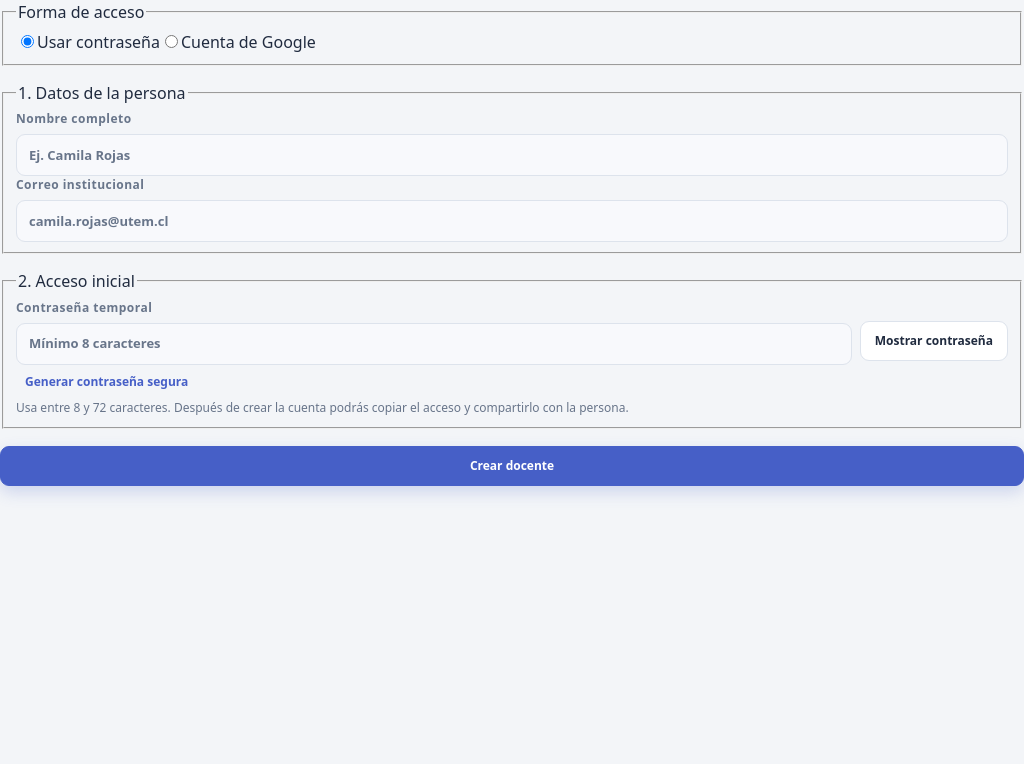
Scenario: crear docente › siempre ofrece mostrar/ocultar y conserva las credenciales solo después del éxito
Expected: the button "Mostrar contraseña" is enabled, [860,321,1008,361]
Type "Ana Pérez" into the field labelled "Nombre completo" at [512, 155], box [16,134,1008,176]
Type "ana@utem.cl" into the field labelled "Correo institucional" at [512, 221], box [16,200,1008,242]
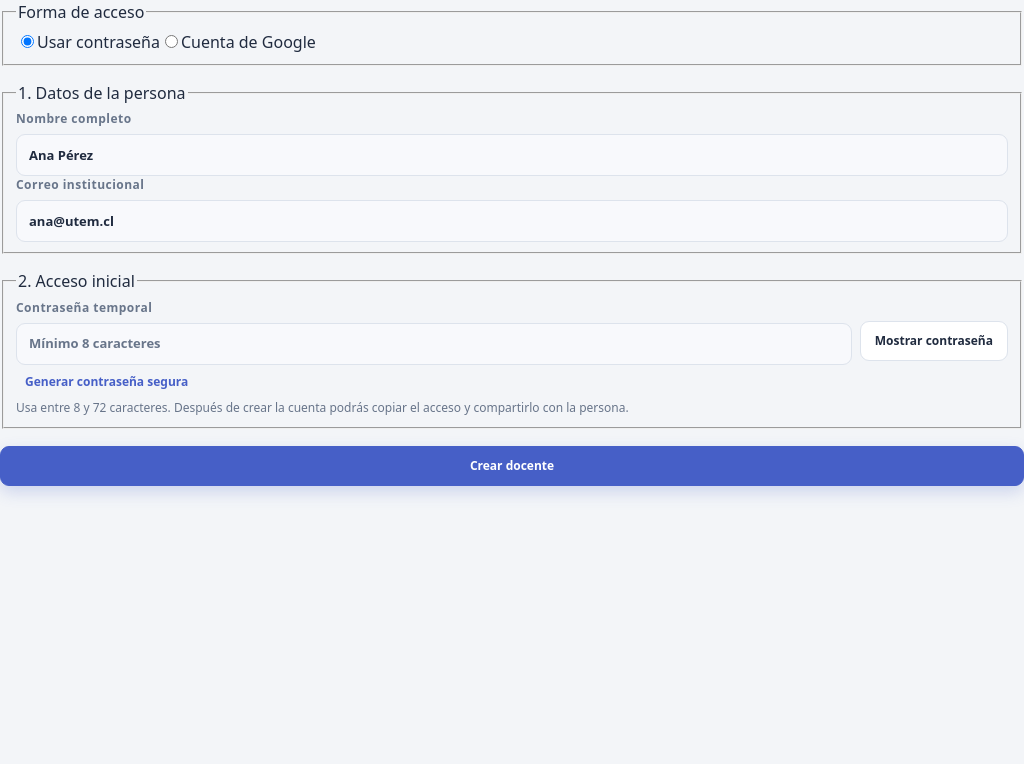
Type "temporal1234" into the password field labelled "Contraseña temporal" at [434, 344], box [16,323,852,365]
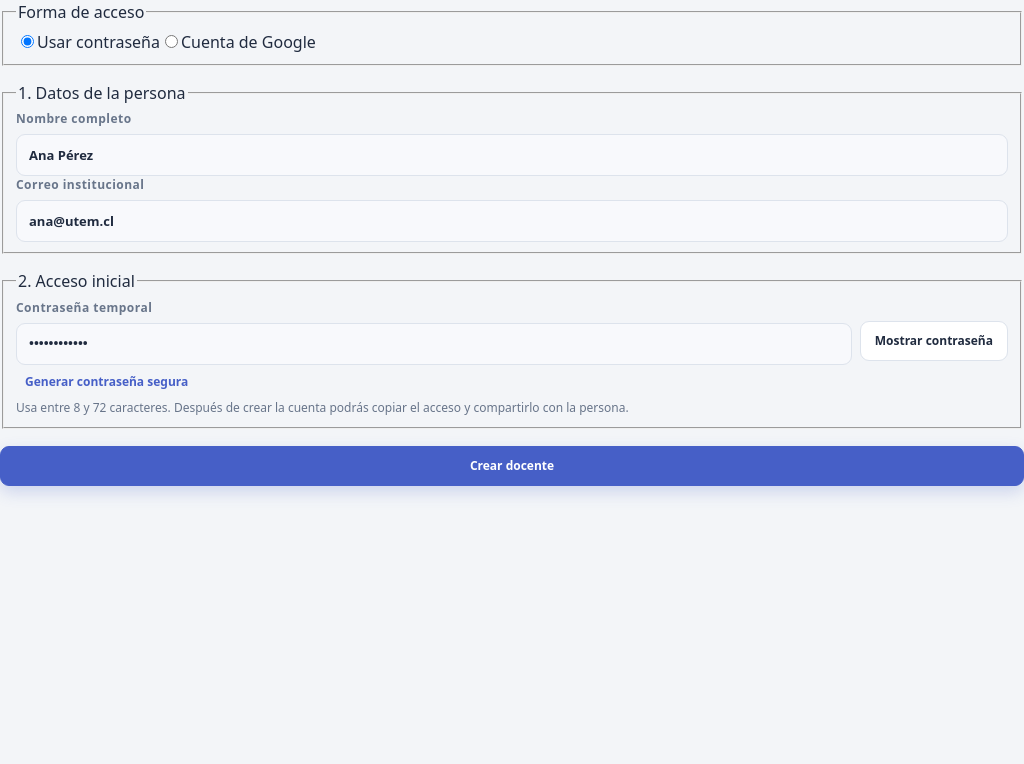
Click the button "Mostrar contraseña" at [934, 341], box [860,321,1008,361]
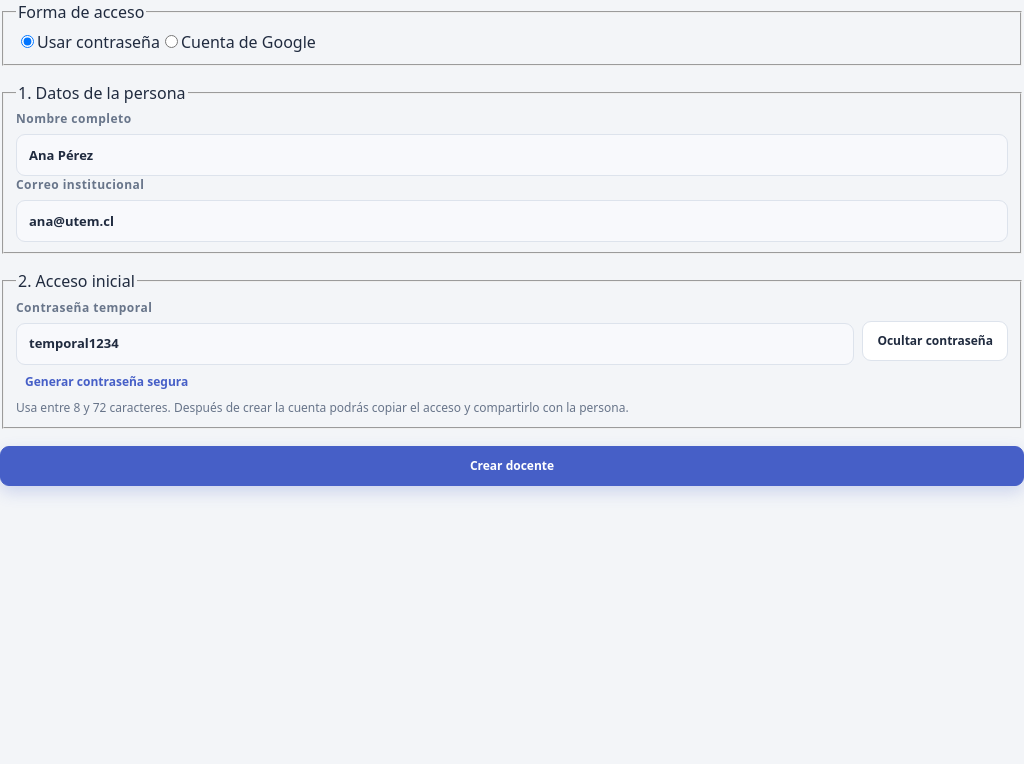
Expected: the field labelled "Contraseña temporal" shows its text, [16,323,854,365]
Click the button "Crear docente" at [512, 466], box [0,446,1023,486]
(page scrolled)
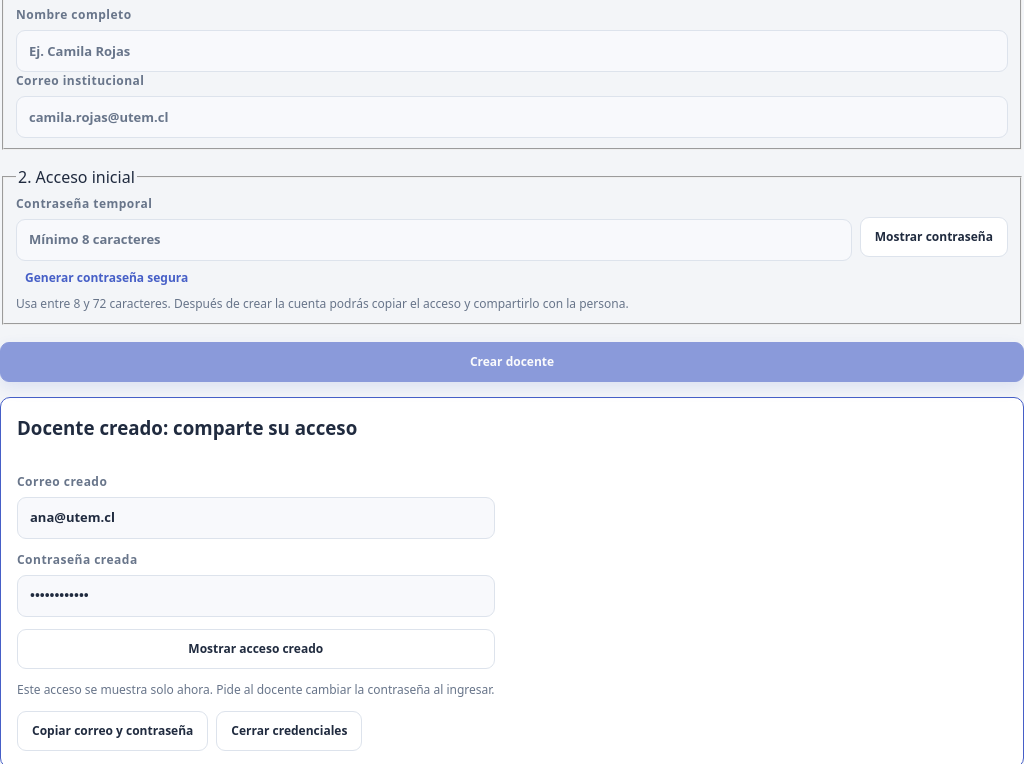
Expected: the password field labelled "Contraseña temporal" is empty, [16,219,852,261]
Click the button "Copiar correo y contraseña" at [113, 731], box [17,711,208,751]
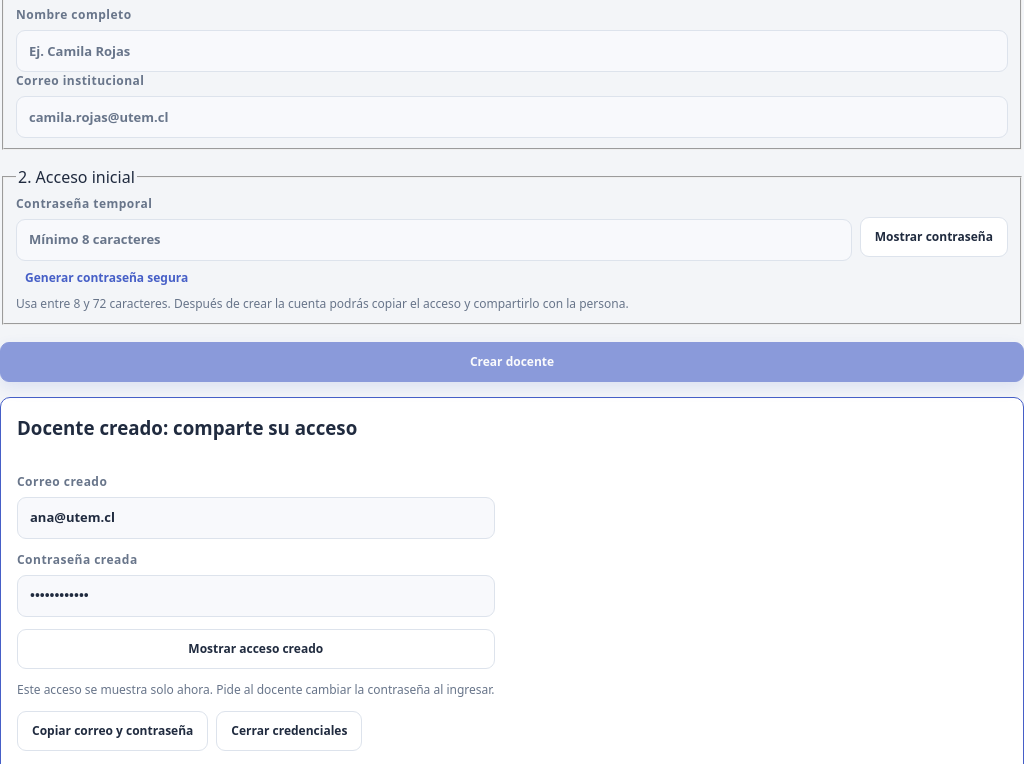
Click the button "Cerrar credenciales" at [289, 731], box [216,711,362,751]
(page scrolled)
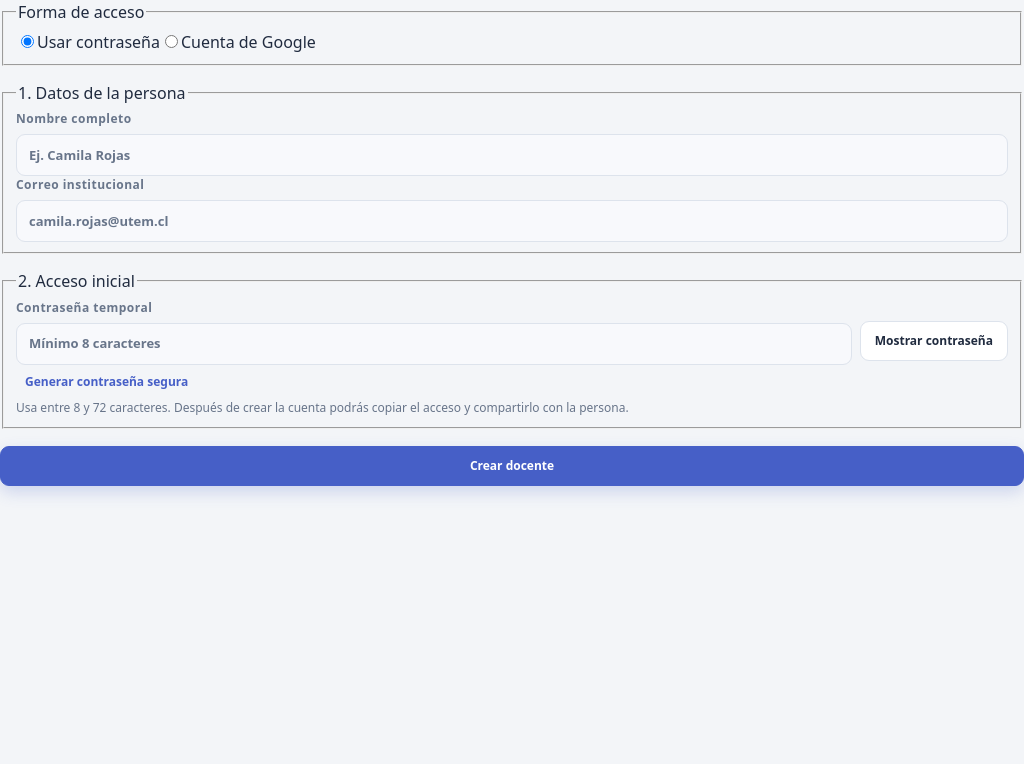
Expected: the button "Copiar correo y contraseña" is gone
